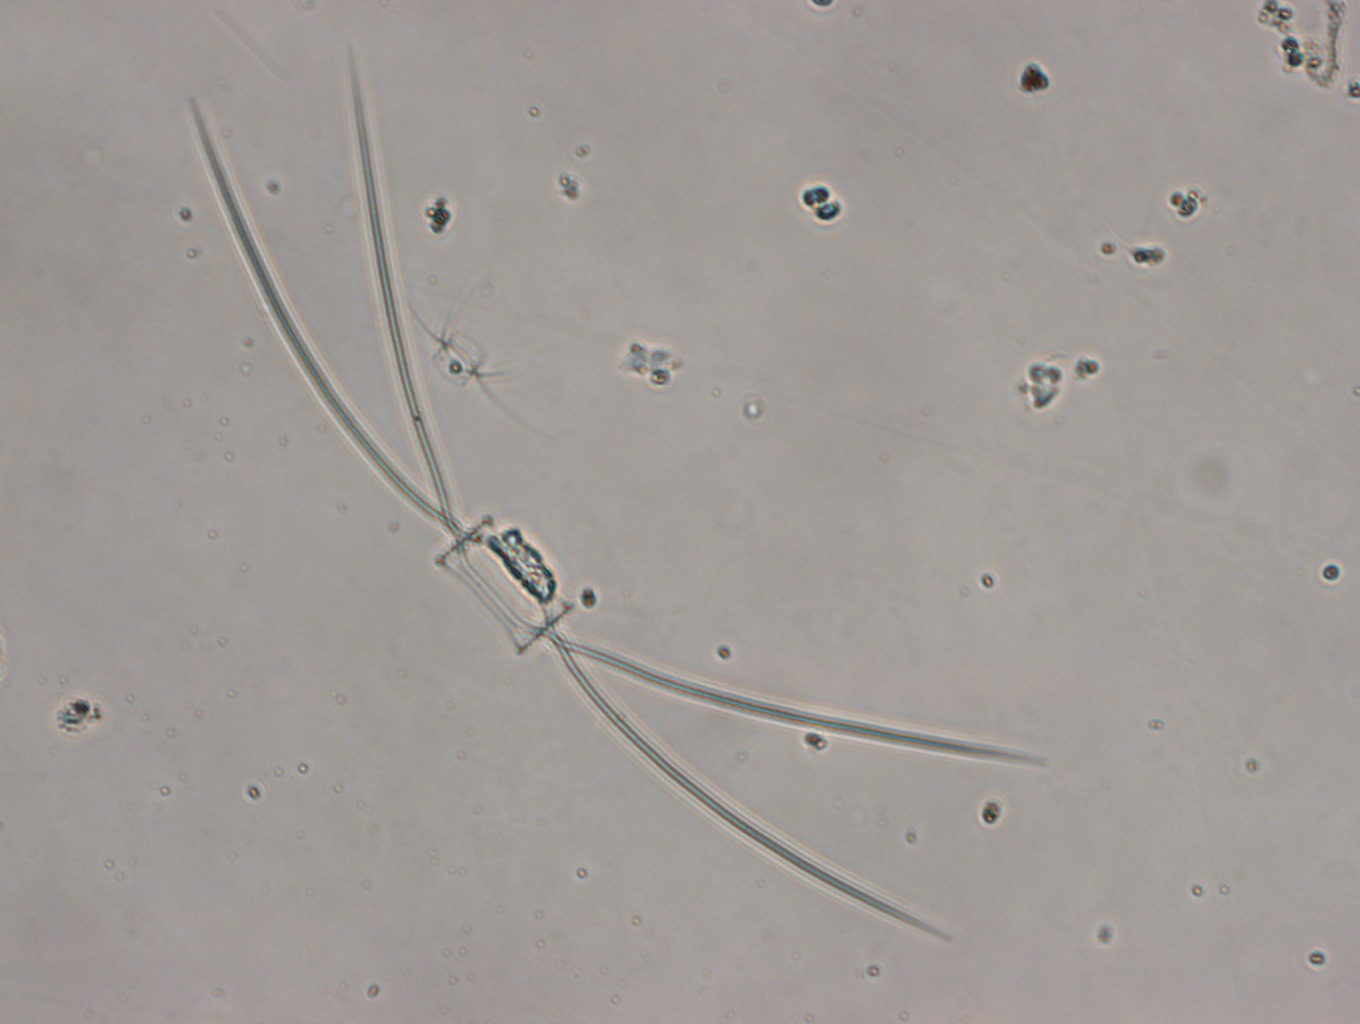chaetoceros: (186, 48, 1048, 943)
